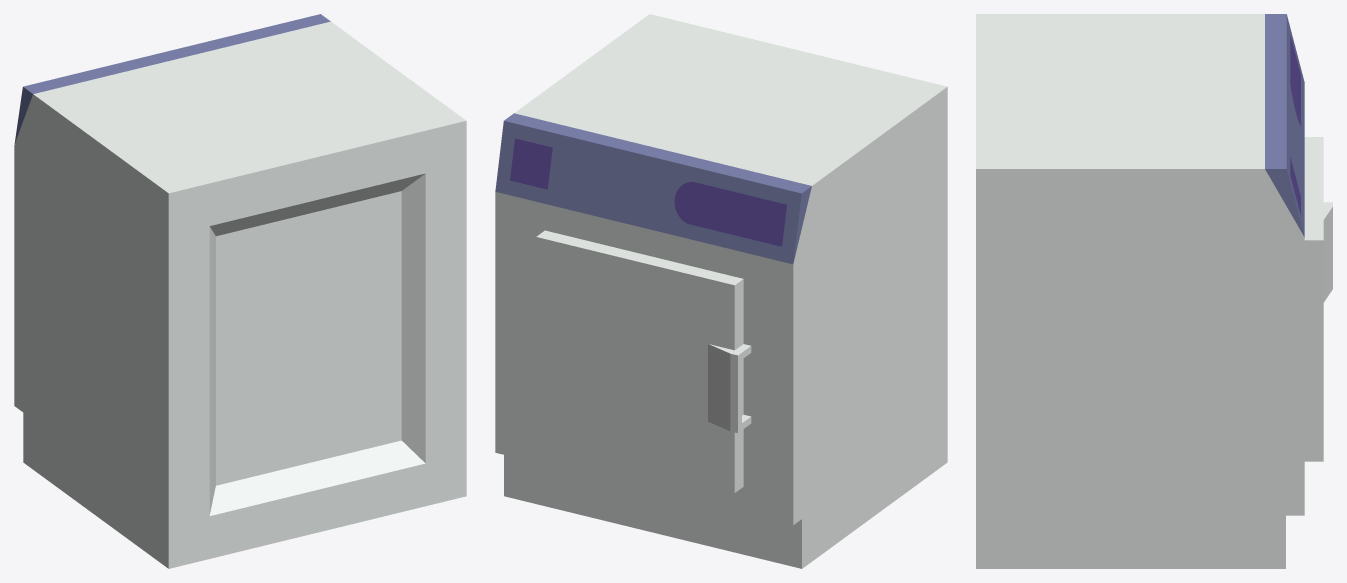
File: Furniture_dryer.fbx
3 renders of one model, left to right at view 1: azimuth 30°, elevation 25°; view 2: azimuth 150°, elevation 25°; view 3: azimuth 270°, elevation 25°, orthographic. The views are drawn at different scales.
Visible parts, largest first — view 1: dryer; view 2: dryer; view 3: dryer.
Part boxes in pixels (x1,y1,x2,y2): dryer: (14, 14, 466, 568); dryer: (495, 14, 947, 568); dryer: (976, 14, 1332, 568).
Bounding box in the file's own units: 107 × 129 × 104.
